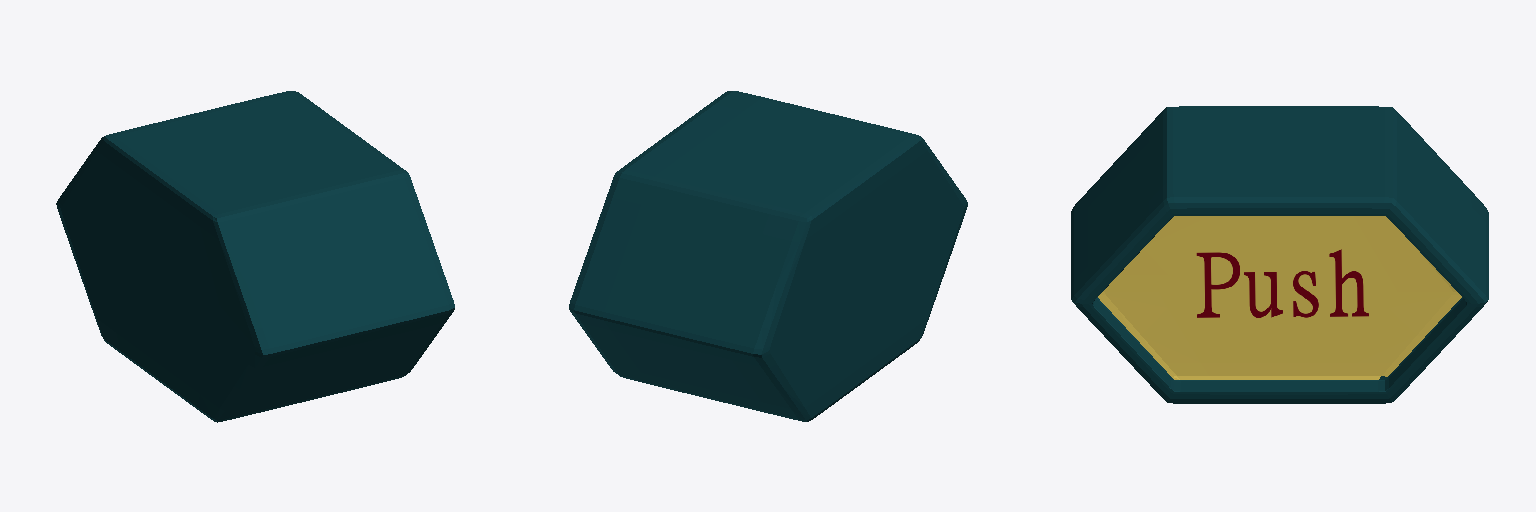
3 views of the same model, side by side, from view 1: azimuth 30°, elevation 25°; view 2: azimuth 150°, elevation 25°; view 3: azimuth 270°, elevation 25° (orthographic).
Visible parts, largest first — view 1: Cube; view 2: Cube; view 3: Cube.
Boxes of the visible parts, x1=… form: Cube: x1=56, y1=91, x2=454, y2=422; Cube: x1=569, y1=91, x2=967, y2=421; Cube: x1=1071, y1=106, x2=1488, y2=403.
Size of the model in its own units: 2 by 2 by 3.68.
Materials: 1 (1 with a texture image).